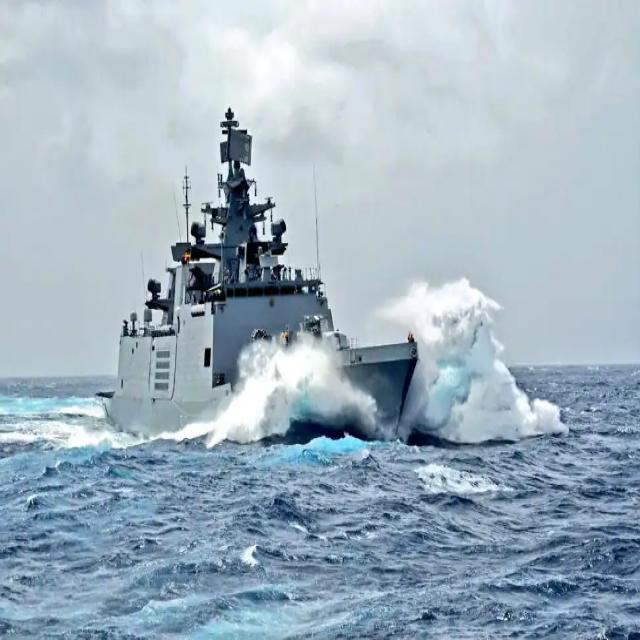navalvessels: (105, 106, 436, 427)
